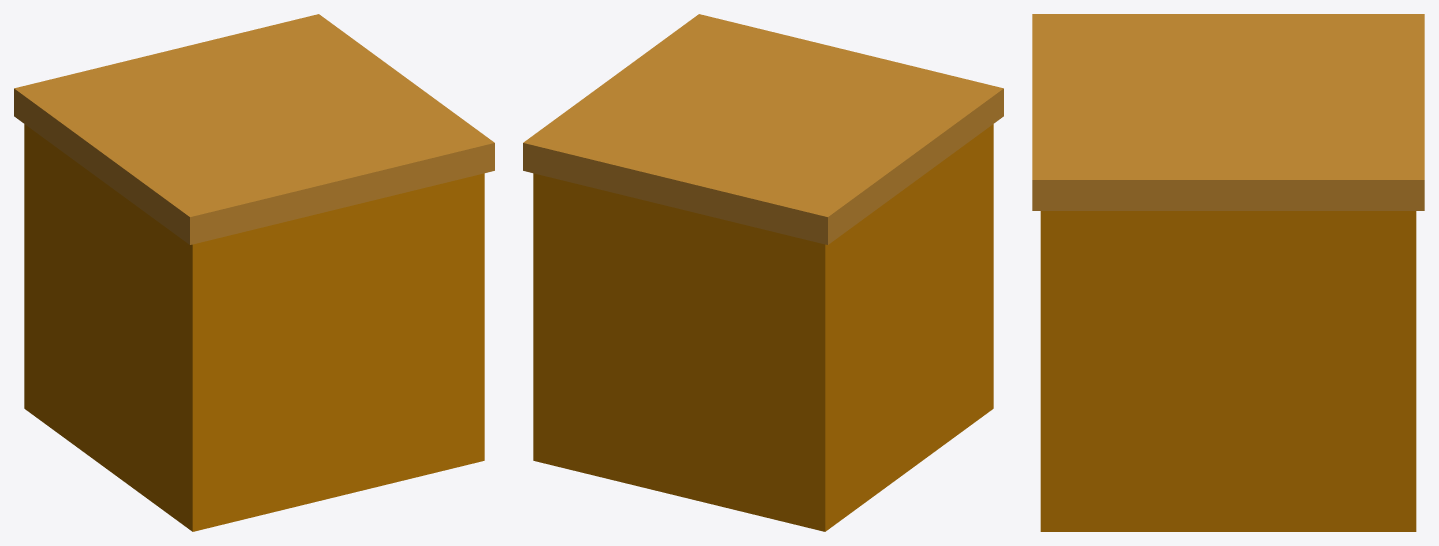
File: Path_Tile.fbx
3 renders of one model, left to right at view 1: azimuth 30°, elevation 25°; view 2: azimuth 150°, elevation 25°; view 3: azimuth 270°, elevation 25°, orthographic. The views are drawn at different scales.
Parts seen in each view (by area): view 1: Path_Tile; view 2: Path_Tile; view 3: Path_Tile.
Boxes of the visible parts, bbox=[...] form: Path_Tile: bbox=[14, 14, 494, 531]; Path_Tile: bbox=[523, 14, 1003, 531]; Path_Tile: bbox=[1032, 14, 1424, 531].
Size of the model in its own units: 2 by 2 by 2.
